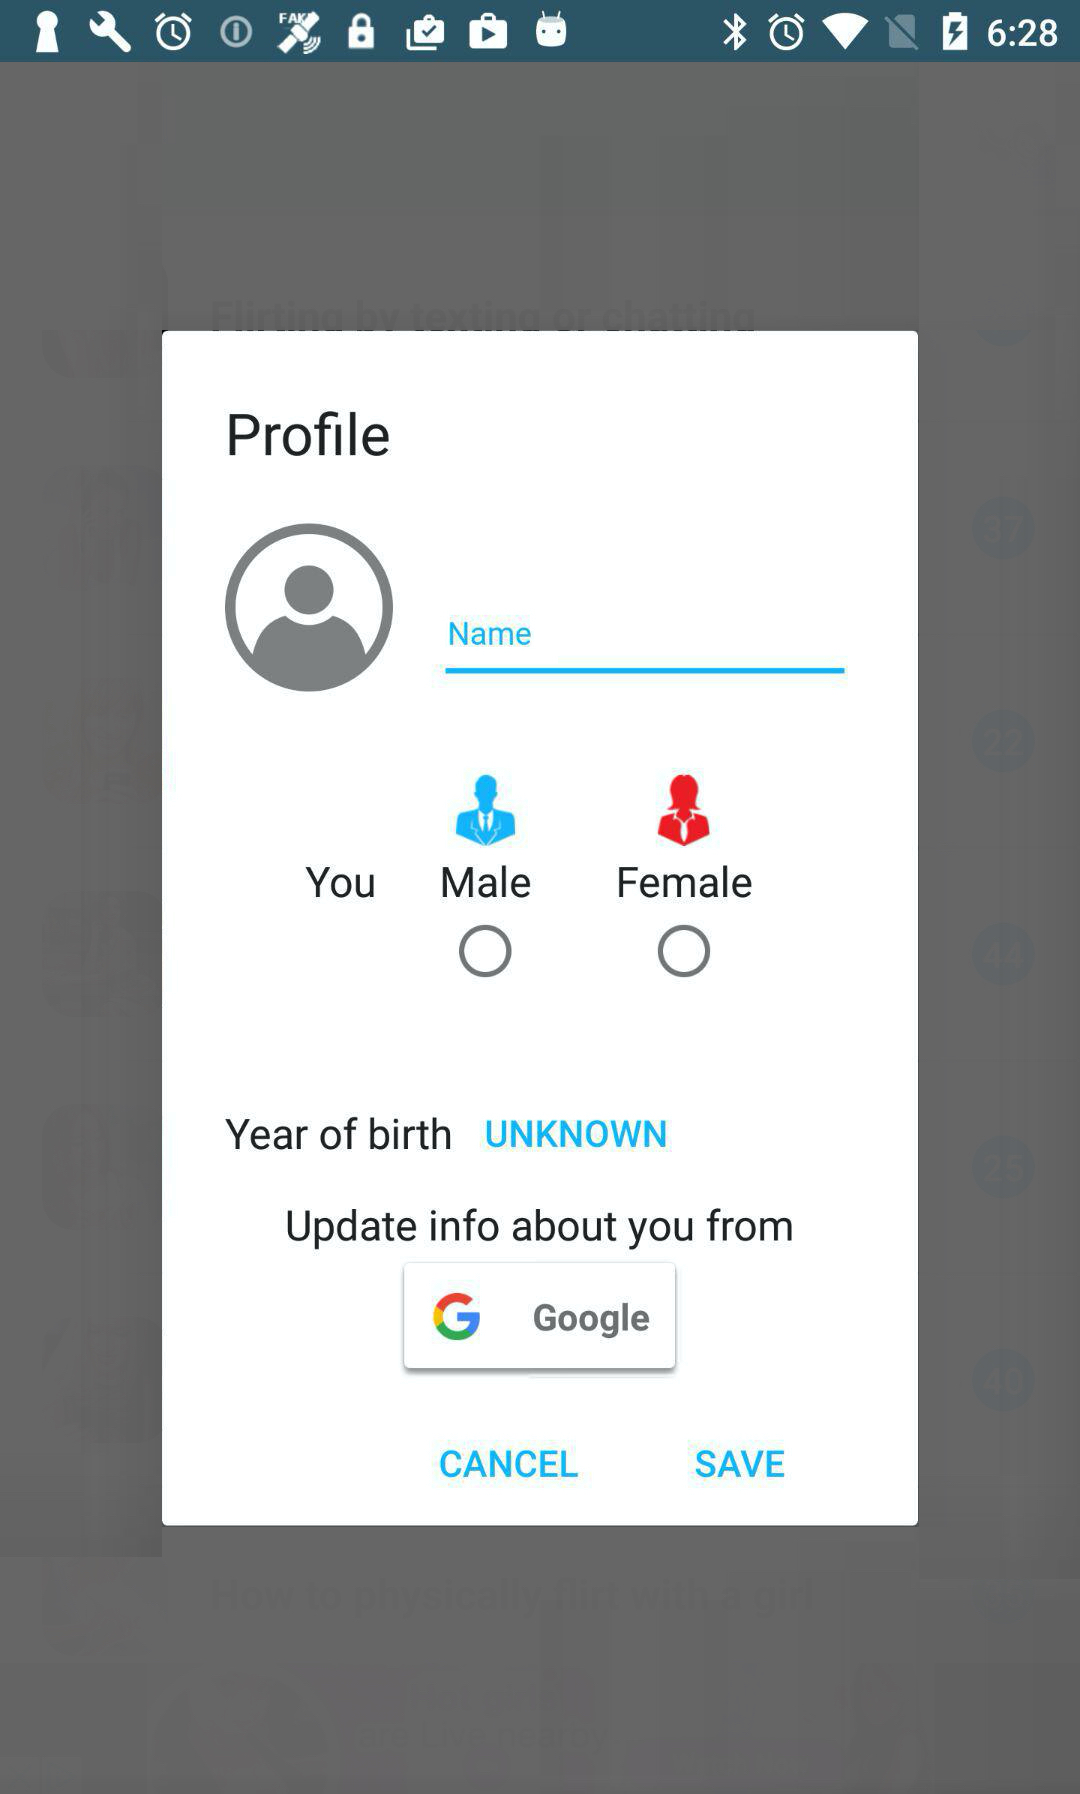CheckedTextView: (657, 924, 711, 979), (459, 924, 512, 978)
EditText: (445, 621, 846, 677)
Icon: (224, 523, 395, 693)
Image: (455, 774, 518, 848), (657, 774, 711, 850)
Modal: (161, 331, 919, 1527)
Text: (287, 1207, 793, 1251), (224, 1116, 452, 1153), (229, 410, 391, 457), (486, 1119, 667, 1149), (618, 864, 755, 900), (439, 1449, 580, 1479), (442, 864, 532, 900), (694, 1449, 785, 1479), (306, 868, 375, 900), (448, 621, 532, 647)
TextButton: (402, 1262, 676, 1370)
UpperTaskBar: (1, 1, 1080, 64)
